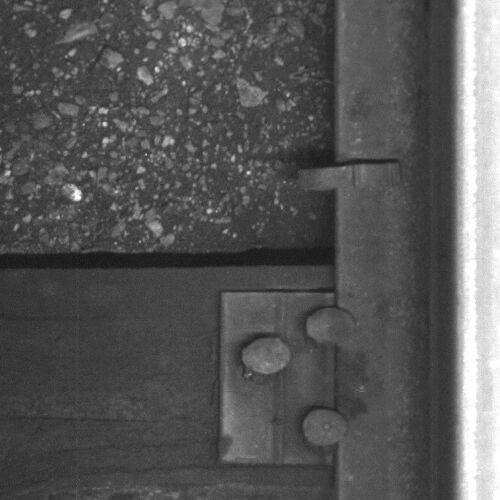crutch: (297, 160, 404, 192)
do: (218, 289, 357, 462)
rail: (449, 1, 500, 500)
tie_wood: (1, 264, 336, 500)
